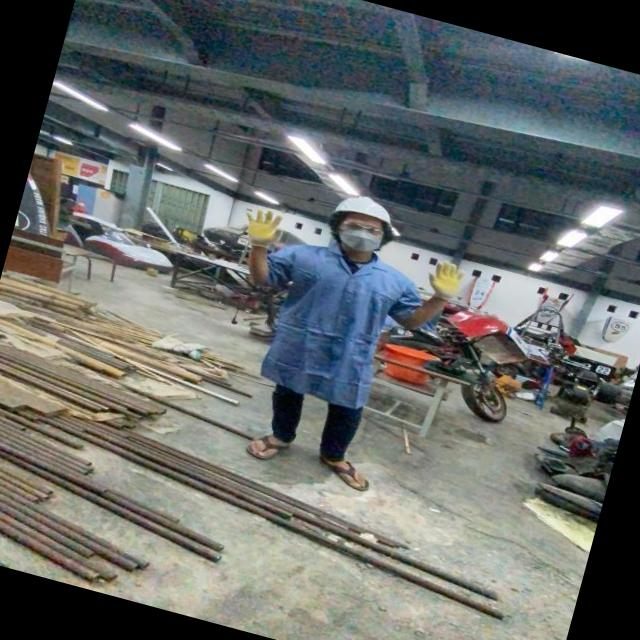hard_hat: (322, 182, 406, 240)
vehicle: (210, 169, 470, 494)
